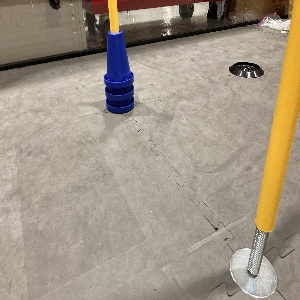Blue_3: (103, 31, 134, 114)
